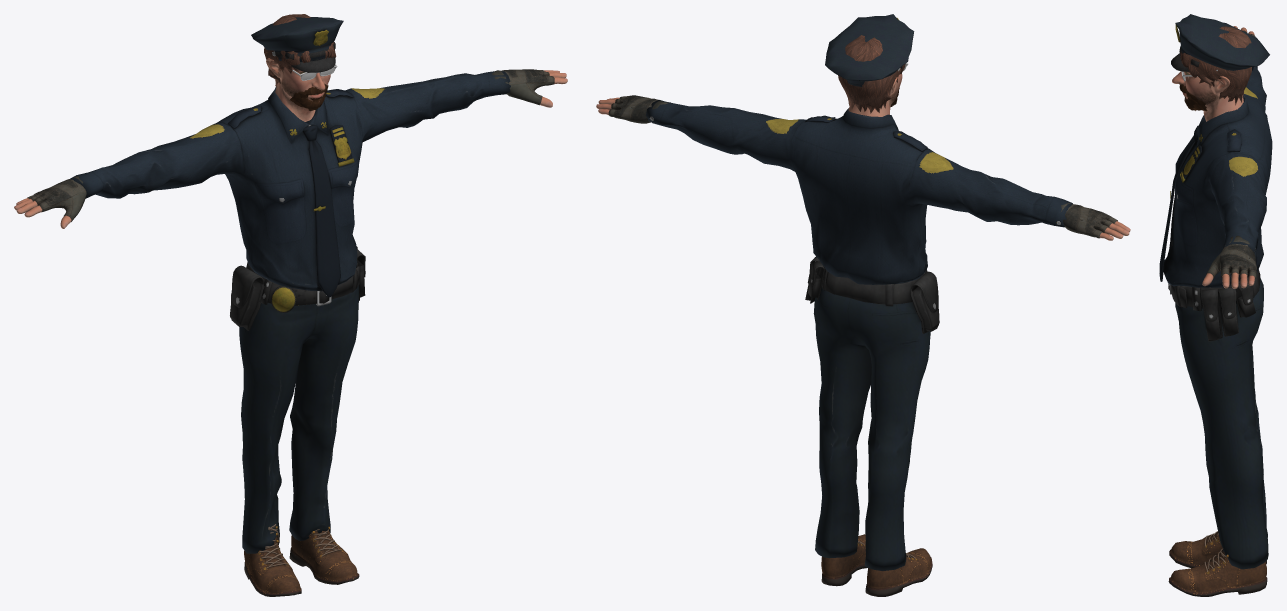
3 renders of one model, left to right at view 1: azimuth 30°, elevation 25°; view 2: azimuth 150°, elevation 25°; view 3: azimuth 270°, elevation 25°, orthographic. The views are drawn at different scales.
Visible parts, largest first — view 1: Tops, Bottoms, Shoes, Hats, Gloves, Body, Hair; view 2: Tops, Bottoms, Hats, Shoes, Gloves, Hair, Body; view 3: Bottoms, Tops, Shoes, Hats, Body, Hair, Gloves, Beards.
Boxes of the visible parts, <box> form: Tops: <box>69,71,510,297</box>; Bottoms: <box>230,246,365,553</box>; Shoes: <box>244,524,359,596</box>; Hats: <box>251,17,343,72</box>; Gloves: <box>27,69,554,221</box>; Body: <box>14,58,567,228</box>; Hair: <box>264,14,336,86</box>; Tops: <box>646,100,1072,284</box>; Bottoms: <box>805,256,939,570</box>; Hats: <box>825,14,914,86</box>; Shoes: <box>821,534,932,596</box>; Gloves: <box>608,95,1117,238</box>; Hair: <box>838,35,905,113</box>; Body: <box>596,74,1130,240</box>; Bottoms: <box>1168,269,1268,569</box>; Tops: <box>1159,66,1272,287</box>; Shoes: <box>1168,531,1267,596</box>; Hats: <box>1171,14,1269,71</box>; Body: <box>1172,26,1254,288</box>; Hair: <box>1180,26,1251,105</box>; Gloves: <box>1206,30,1256,278</box>; Beards: <box>1184,96,1207,111</box>.
Size of the model in its own units: 192 by 188 by 34.8.
